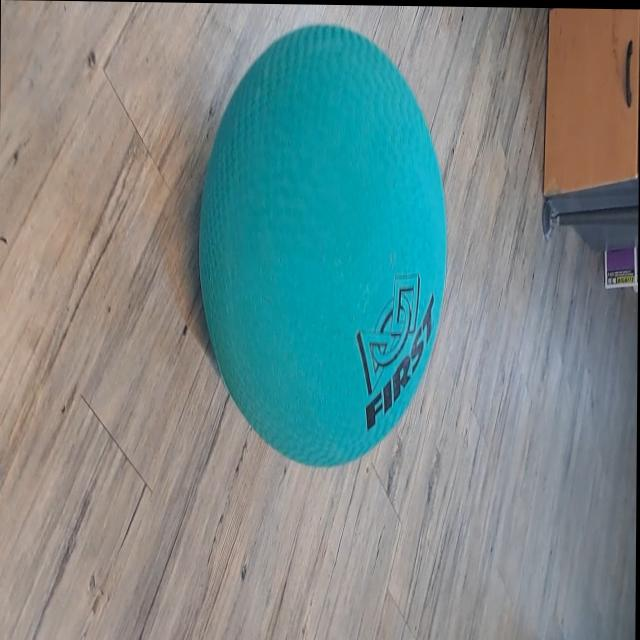ALGAE: (195, 20, 450, 471)
